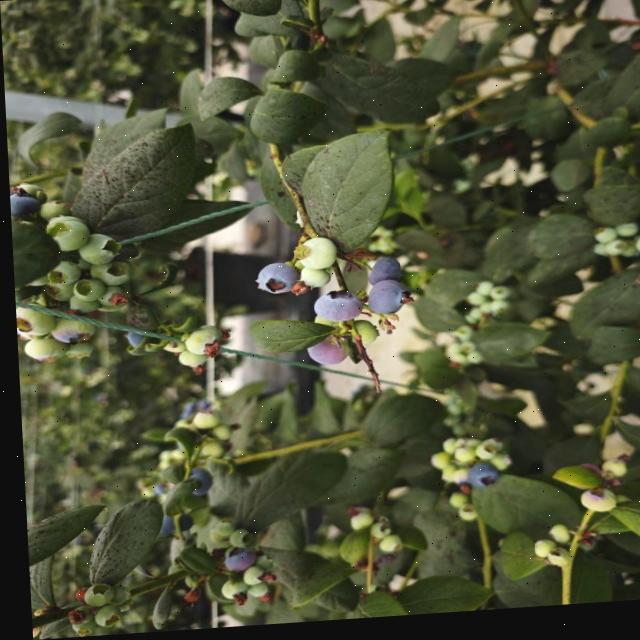RipeBlueBerry: (296, 291, 357, 323), (299, 338, 352, 370)
Semi-RipeBlueBerry: (296, 236, 335, 272)
UnripeBlueBerry: (76, 230, 123, 263), (176, 322, 215, 358)
